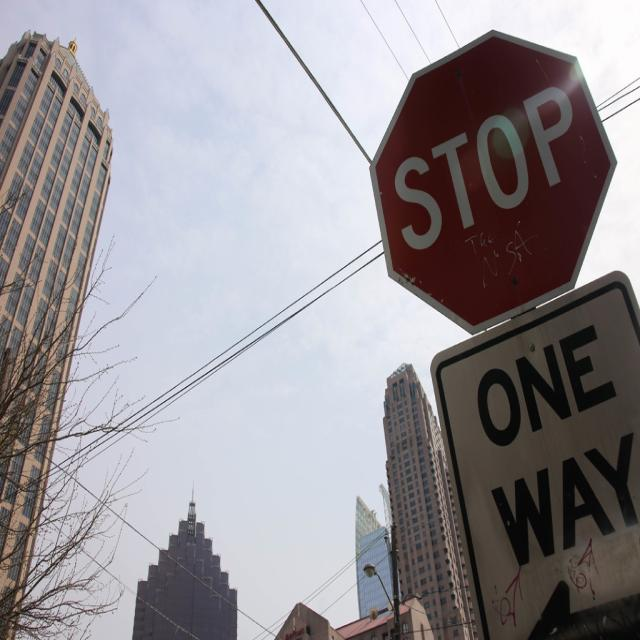Stop-sign: (370, 25, 619, 330)
